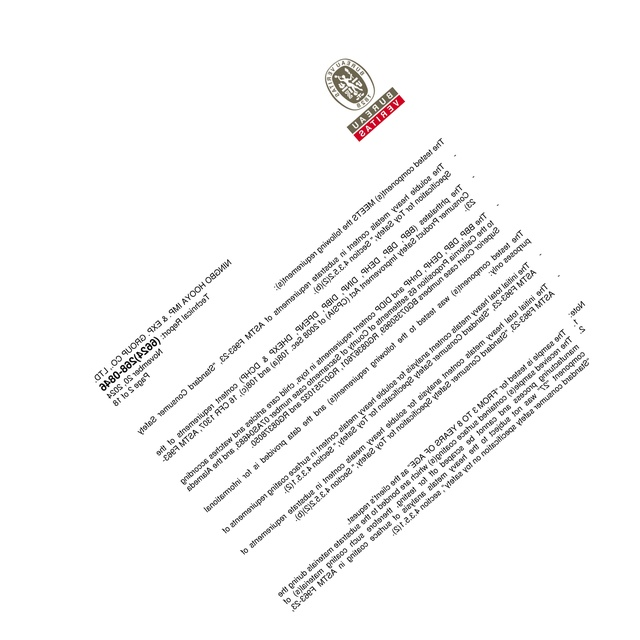bureau_veritas: (321, 54, 405, 142)
